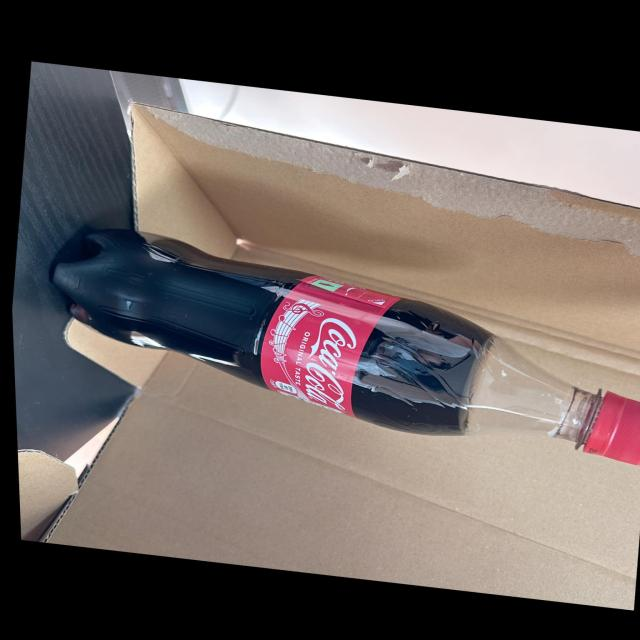high: (52, 229, 640, 465)
